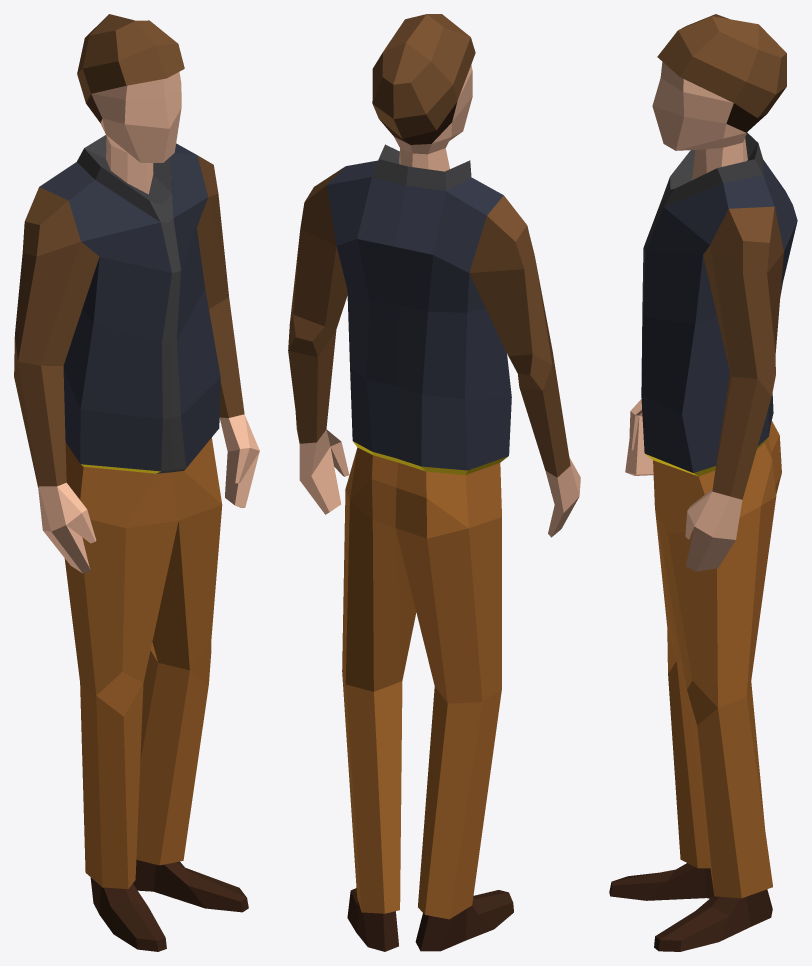
File: AutumnManB.001.glb
The picture shows the model from 3 angles, left to right: view 1: azimuth 30°, elevation 25°; view 2: azimuth 150°, elevation 25°; view 3: azimuth 270°, elevation 25°; orthographic projection. The views are drawn at different scales.
Visible parts, largest first — view 1: AutumnManB.001; view 2: AutumnManB.001; view 3: AutumnManB.001.
Boxes of the visible parts, x1=… form: AutumnManB.001: x1=14, y1=14, x2=259, y2=951; AutumnManB.001: x1=288, y1=14, x2=580, y2=951; AutumnManB.001: x1=609, y1=14, x2=797, y2=951.
Bounding box in the file's own units: 0.4982 × 1.78 × 0.3399.
1 material, 1 textured.
